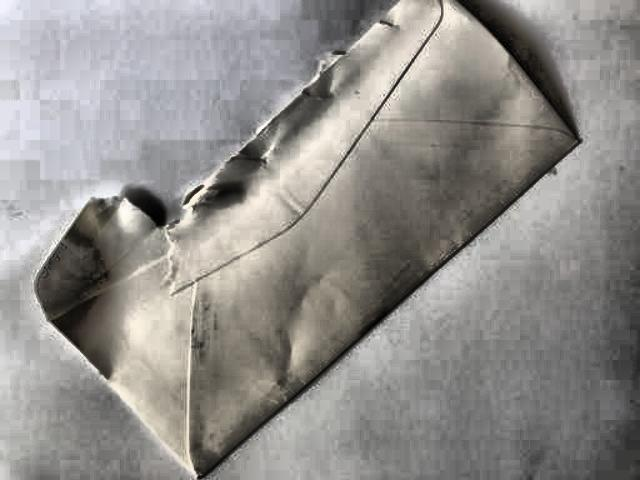Paper: (0, 2, 614, 475)
